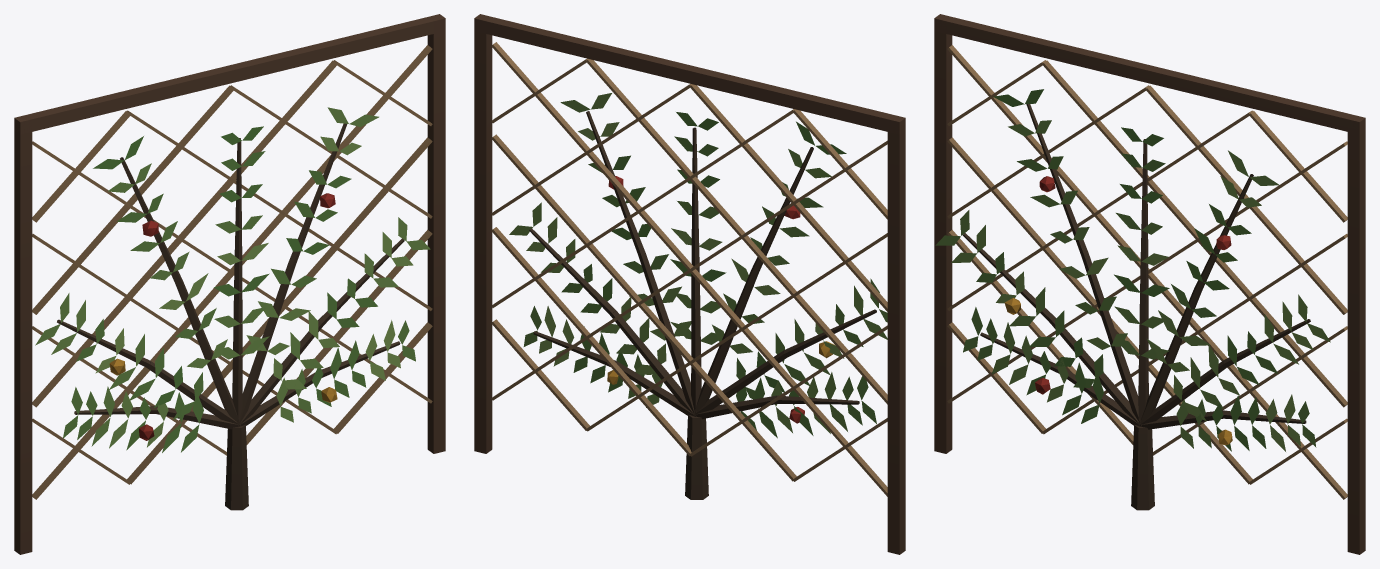
The model's file is espalier.glb.
3 views of the same model, side by side, from view 1: azimuth 30°, elevation 25°; view 2: azimuth 150°, elevation 25°; view 3: azimuth 330°, elevation 25° (orthographic).
Visible parts, largest first — view 1: isl_espalier; view 2: isl_espalier; view 3: isl_espalier.
Boxes of the visible parts, x1=… form: isl_espalier: x1=14, y1=14, x2=445, y2=554; isl_espalier: x1=474, y1=14, x2=905, y2=554; isl_espalier: x1=934, y1=14, x2=1365, y2=554.
Size of the model in its own units: 2.47 by 2.4 by 0.1921.
